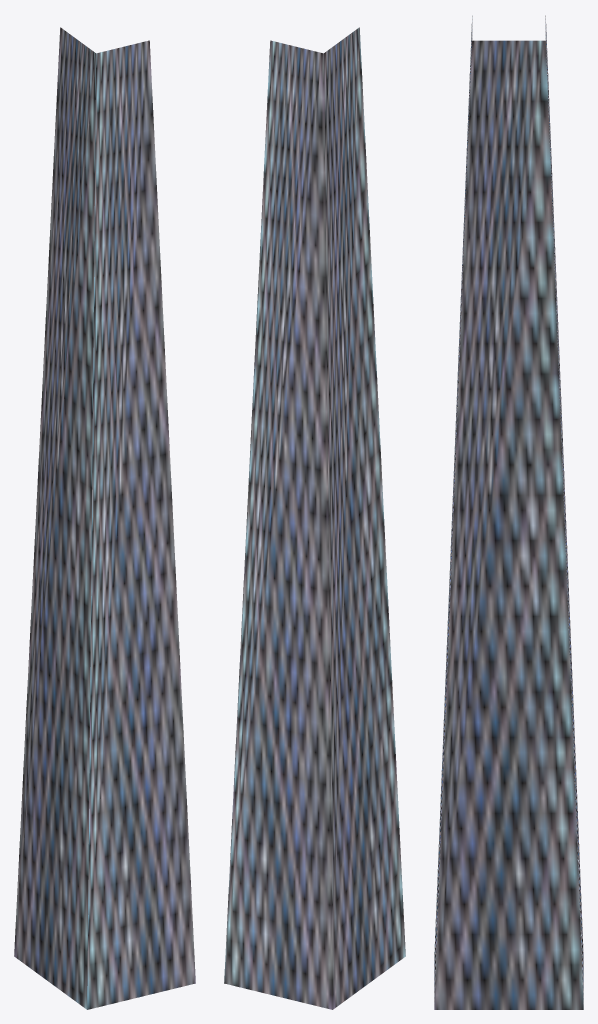
Rendered from tree21.glb.
The picture shows the model from 3 angles, left to right: view 1: azimuth 30°, elevation 25°; view 2: azimuth 150°, elevation 25°; view 3: azimuth 270°, elevation 25°; orthographic projection. The views are drawn at different scales.
Parts seen in each view (by area): view 1: tree21; view 2: tree21; view 3: tree21.
Part boxes in pixels (<box>): tree21: <box>14,27,195,1009</box>; tree21: <box>224,27,405,1009</box>; tree21: <box>434,15,583,1009</box>.
Bounding box in the file's own units: 43.51 × 358 × 50.76.
1 material, 1 textured.
